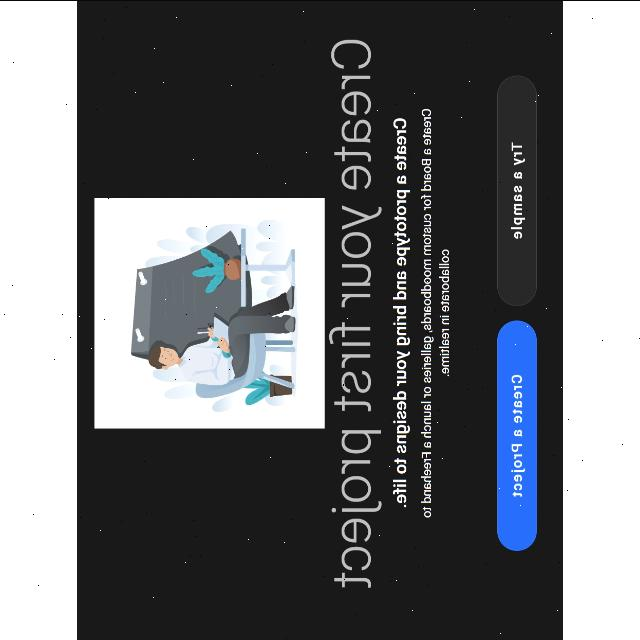QLabel: (329, 37, 383, 589), (392, 116, 412, 508), (420, 107, 436, 520), (438, 246, 454, 376), (510, 374, 526, 496), (510, 138, 528, 242)
VBtn: (497, 72, 541, 306), (496, 320, 538, 550)
VImg: (92, 195, 326, 428)
